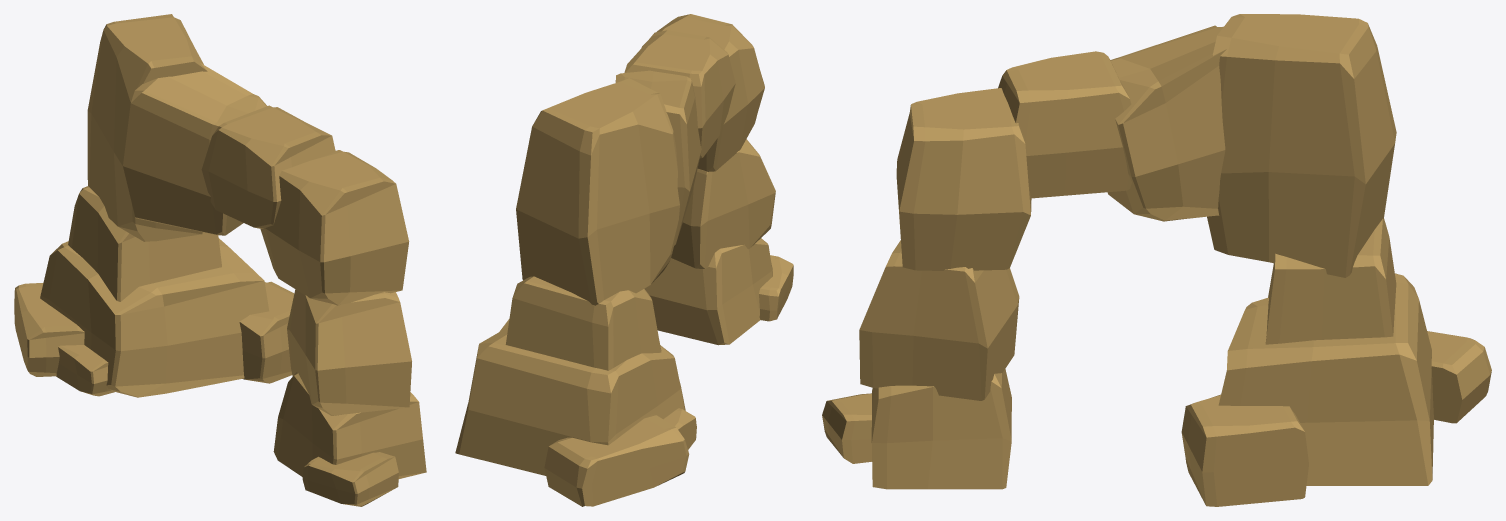
The model's file is Desert_Stone_Arch.fbx.
The picture shows the model from 3 angles, left to right: view 1: azimuth 30°, elevation 25°; view 2: azimuth 150°, elevation 25°; view 3: azimuth 270°, elevation 25°; orthographic projection. The views are drawn at different scales.
Parts seen in each view (by area): view 1: Desert_Stone_Arch; view 2: Desert_Stone_Arch; view 3: Desert_Stone_Arch.
Boxes of the visible parts, x1,y1,x2,y2 form: Desert_Stone_Arch: (14,14,426,506); Desert_Stone_Arch: (455,14,793,506); Desert_Stone_Arch: (822,14,1491,506).
Size of the model in its own units: 513 by 1043 by 686.
